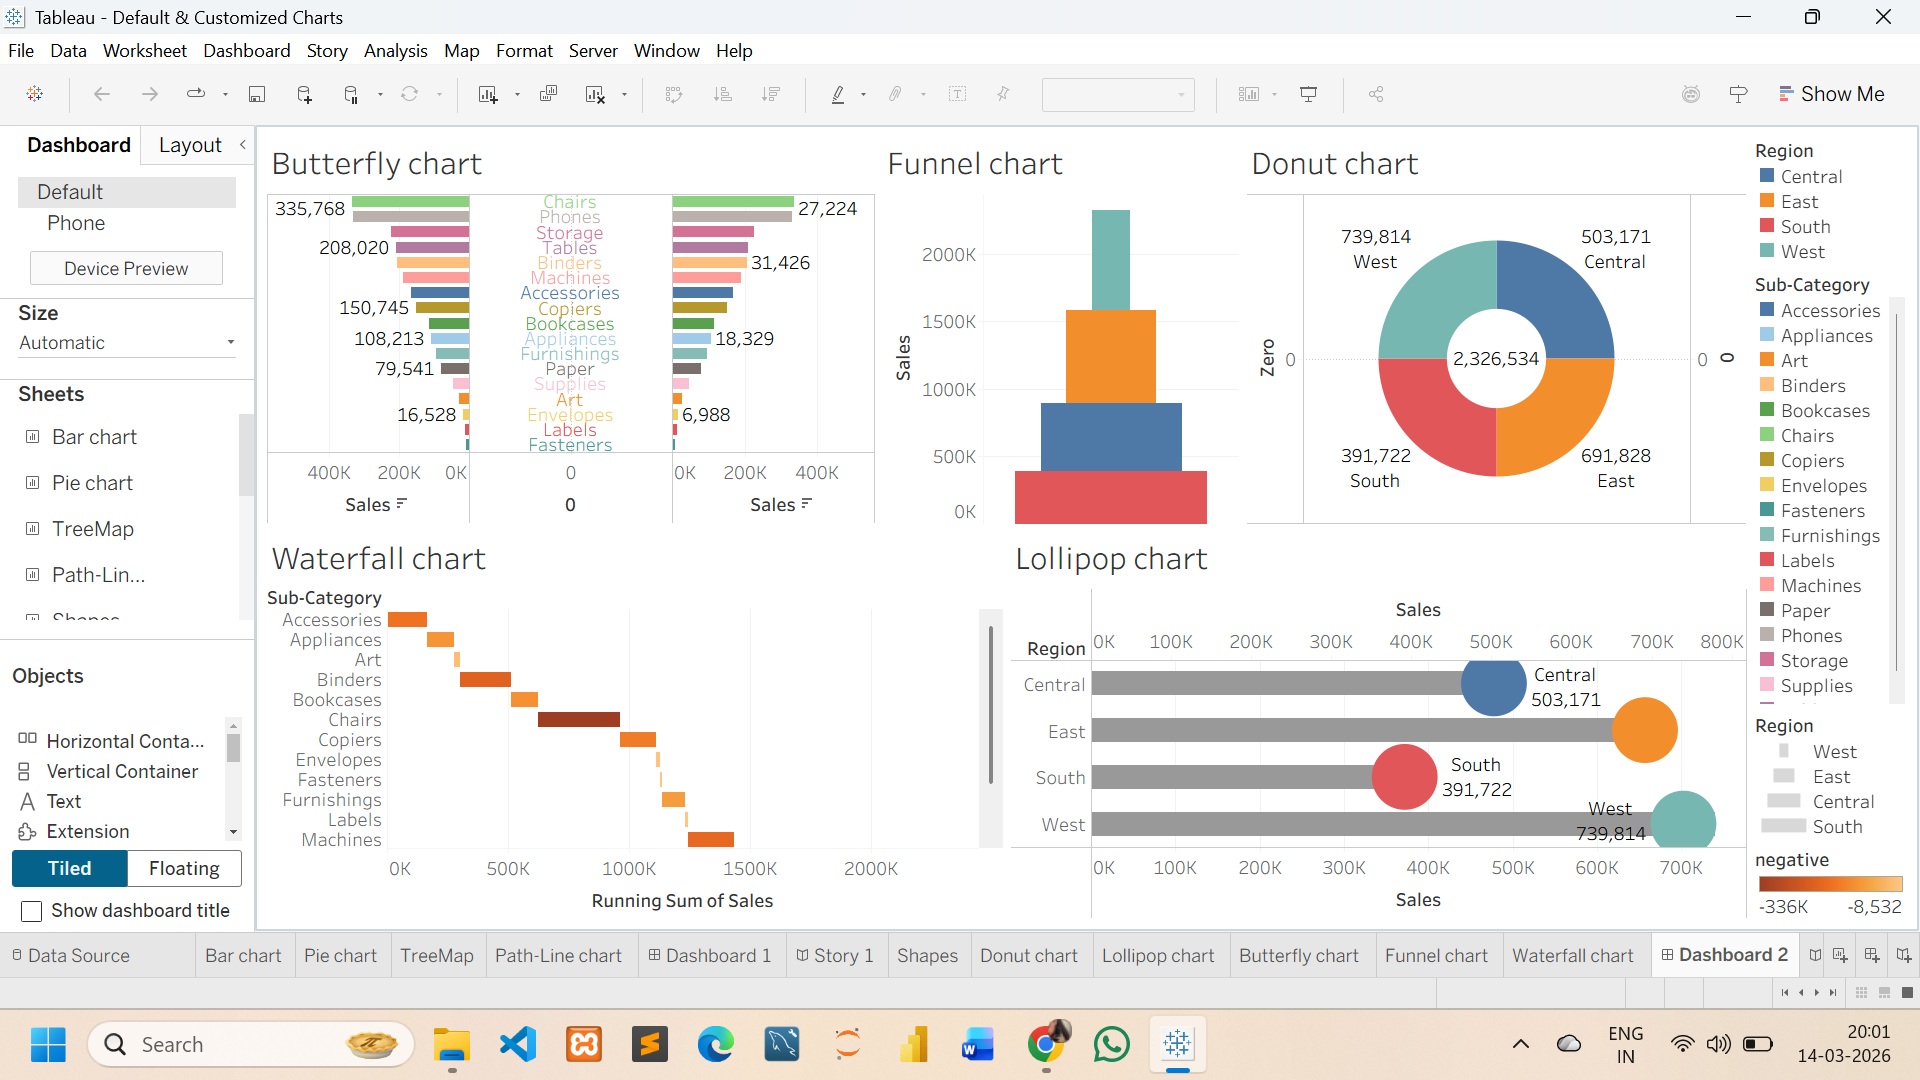

The page's visual inventory and layout, read from the dashboard file:
{"tool":"tableau","page":{"name":"Dashboard 2","canvas":[1000,1000],"units":"permille","ordinal":1},"visuals":[{"type":"worksheet","title":"Butterfly chart","mark":"Automatic","rows":["Sub-Category"],"cols":["Sales","Calculation_254171960497135620","Sales"],"box":[4.8,9.9,370,490.1]},{"type":"worksheet","title":"Funnel chart","mark":"Automatic","rows":["Sales"],"box":[374.9,9.9,219.2,490.1]},{"type":"worksheet","title":"Donut chart","mark":"Pie","rows":["Calculation_254171960452788224","Calculation_254171960452890626"],"box":[594,9.9,305,490.1]},{"type":"legend","title":"Donut chart","param":"[federated.0d6q7ib0e3wx5g14k2cjd0qth7mv].[none:Region:nk]","box":[899,9.9,96.2,166.3]},{"type":"legend","title":"Butterfly chart","param":"[federated.0d6q7ib0e3wx5g14k2cjd0qth7mv].[none:Sub-Category:nk]","box":[899,176.2,96.2,547.1]},{"type":"worksheet","title":"Waterfall chart","mark":"GanttBar","rows":["Sub-Category"],"cols":["Sales"],"box":[4.8,500,447.1,490.1]},{"type":"worksheet","title":"Lollipop chart","mark":"Automatic","rows":["Region"],"cols":["Sales","Sales"],"box":[451.9,500,447.2,490.1]},{"type":"legend","title":"Funnel chart","param":"[federated.0d6q7ib0e3wx5g14k2cjd0qth7mv].[none:Region:nk]","box":[899,723.3,96.2,166.3]},{"type":"legend","title":"Waterfall chart","param":"[federated.0d6q7ib0e3wx5g14k2cjd0qth7mv].[usr:Calculation_254171960506183685:qk]","box":[899,889.6,96.2,100.5]}]}

Visuals, with their boxes on the dashboard's canvas, which has no fixed pixel size, in thousandths of its width and height (x1, y1, x2, y2). These are canvas units, not pixel positions in the 1920x1080 screenshot, which may show the page scaled, cropped or inside an application window:
"Butterfly chart" worksheet: 5/10/375/500
"Funnel chart" worksheet: 375/10/594/500
"Donut chart" worksheet (Pie marks): 594/10/899/500
"Donut chart" legend: 899/10/995/176
"Butterfly chart" legend: 899/176/995/723
"Waterfall chart" worksheet (GanttBar marks): 5/500/452/990
"Lollipop chart" worksheet: 452/500/899/990
"Funnel chart" legend: 899/723/995/890
"Waterfall chart" legend: 899/890/995/990
